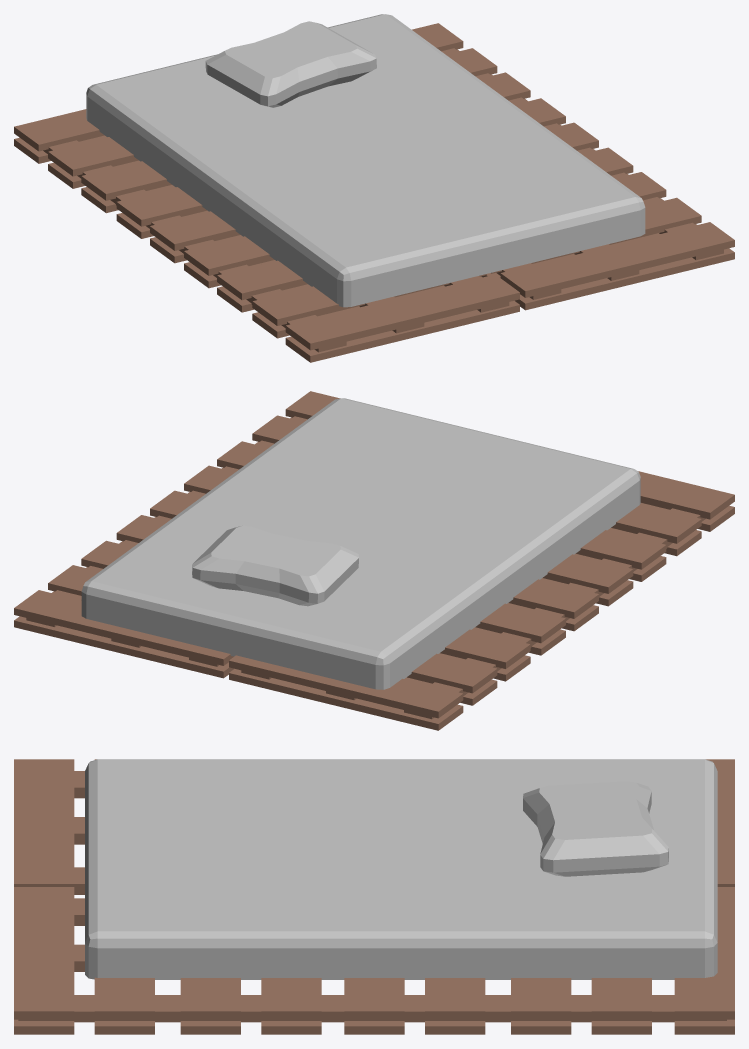
The model's file is PalletBed.fbx.
The picture shows the model from 3 angles, top to bottom: view 1: azimuth 30°, elevation 25°; view 2: azimuth 150°, elevation 25°; view 3: azimuth 270°, elevation 25°; orthographic projection. The views are drawn at different scales.
Parts seen in each view (by area): view 1: Cube.043; view 2: Cube.043; view 3: Cube.043.
Part boxes in pixels (left/top/right/bottom): Cube.043: left=14, top=14, right=734, bottom=362; Cube.043: left=14, top=391, right=734, bottom=730; Cube.043: left=14, top=759, right=734, bottom=1034.
Size of the model in its own units: 169 by 32.6 by 204.
